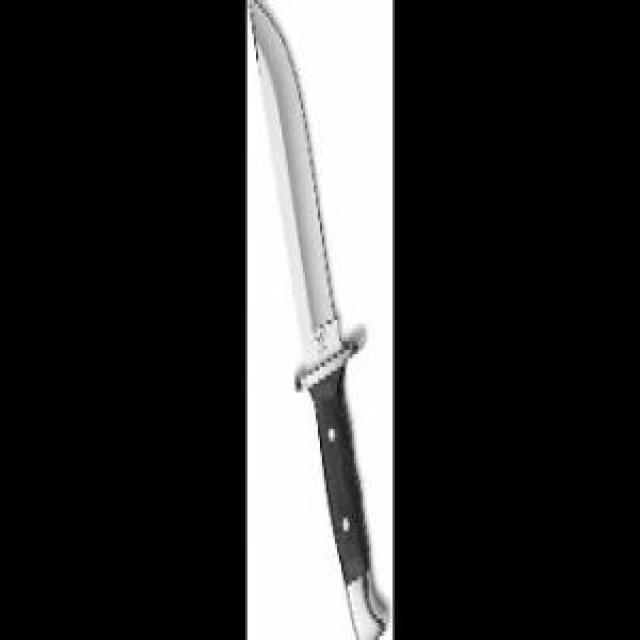knife: (248, 0, 390, 638)
